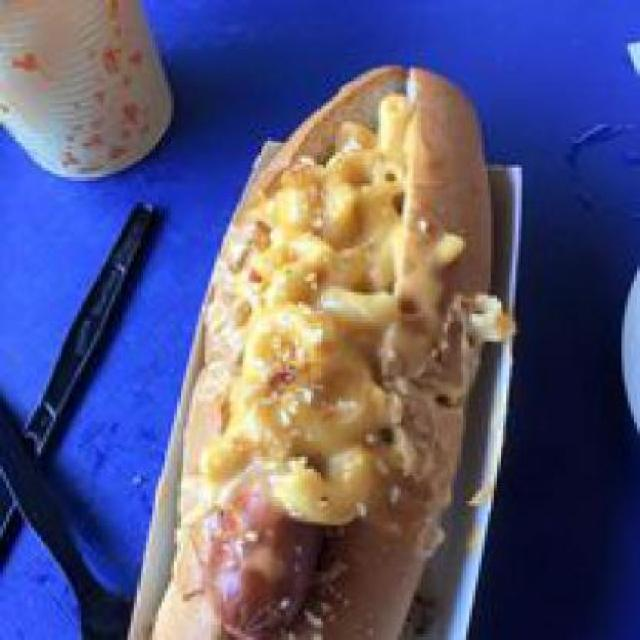hot dog: (196, 481, 330, 637)
macaroni and cheese: (227, 93, 413, 516)
